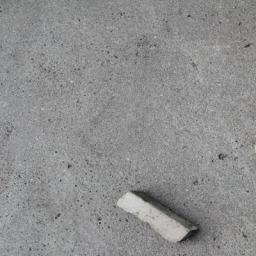FOD: (115, 187, 201, 246)
